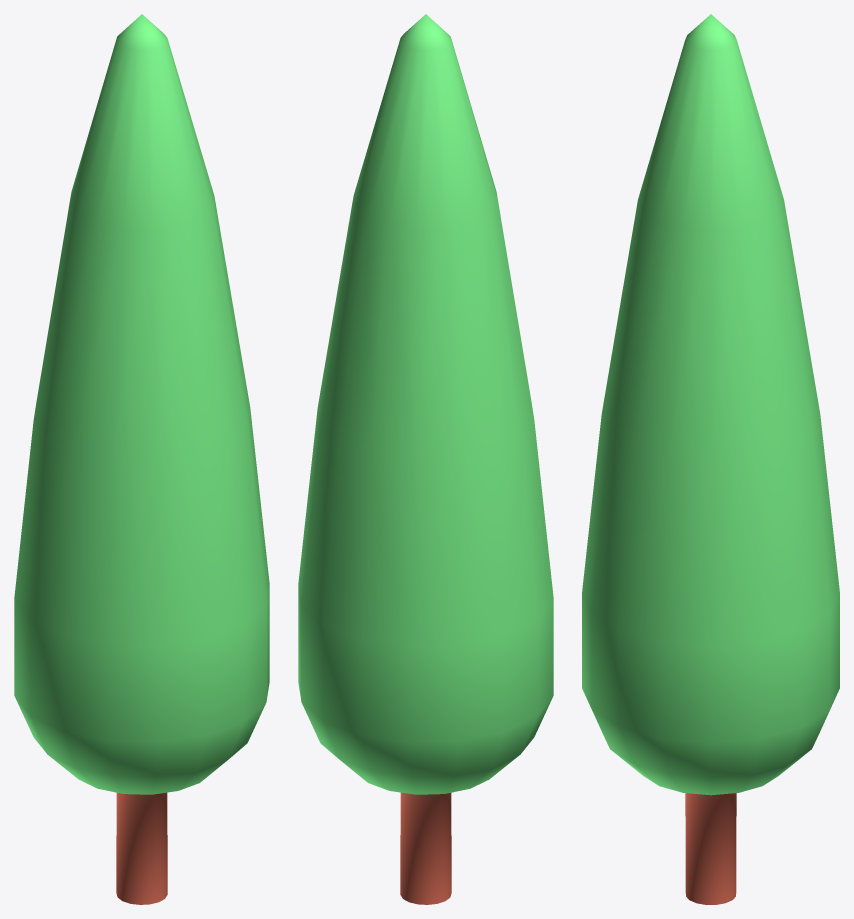
The model's file is PineTree.glb.
3 renders of one model, left to right at view 1: azimuth 30°, elevation 25°; view 2: azimuth 150°, elevation 25°; view 3: azimuth 270°, elevation 25°, orthographic.
Parts seen in each view (by area): view 1: PineTree; view 2: PineTree; view 3: PineTree.
Boxes of the visible parts, <box> form: PineTree: <box>14,14,269,904</box>; PineTree: <box>298,14,553,904</box>; PineTree: <box>582,14,839,904</box>.
Bounding box in the file's own units: 1.96 × 7.39 × 1.96.
